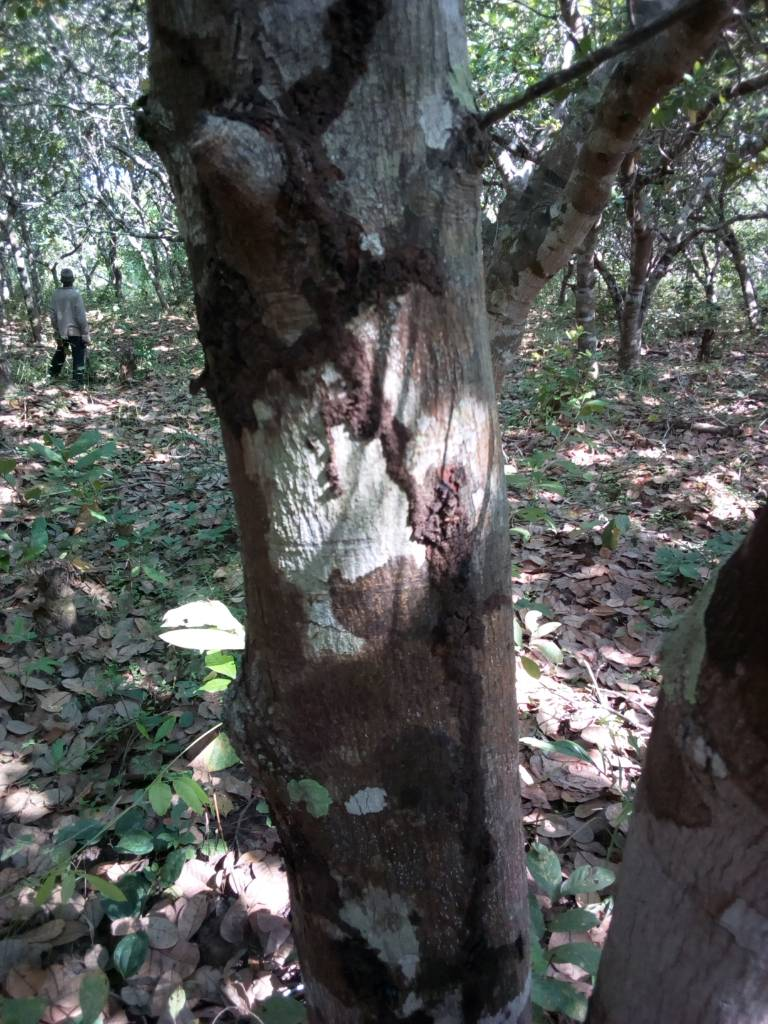Virose: (244, 47, 476, 499), (384, 451, 574, 949)
